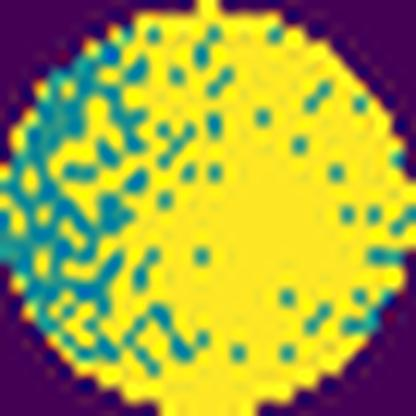Near-full: (53, 0, 416, 416)
